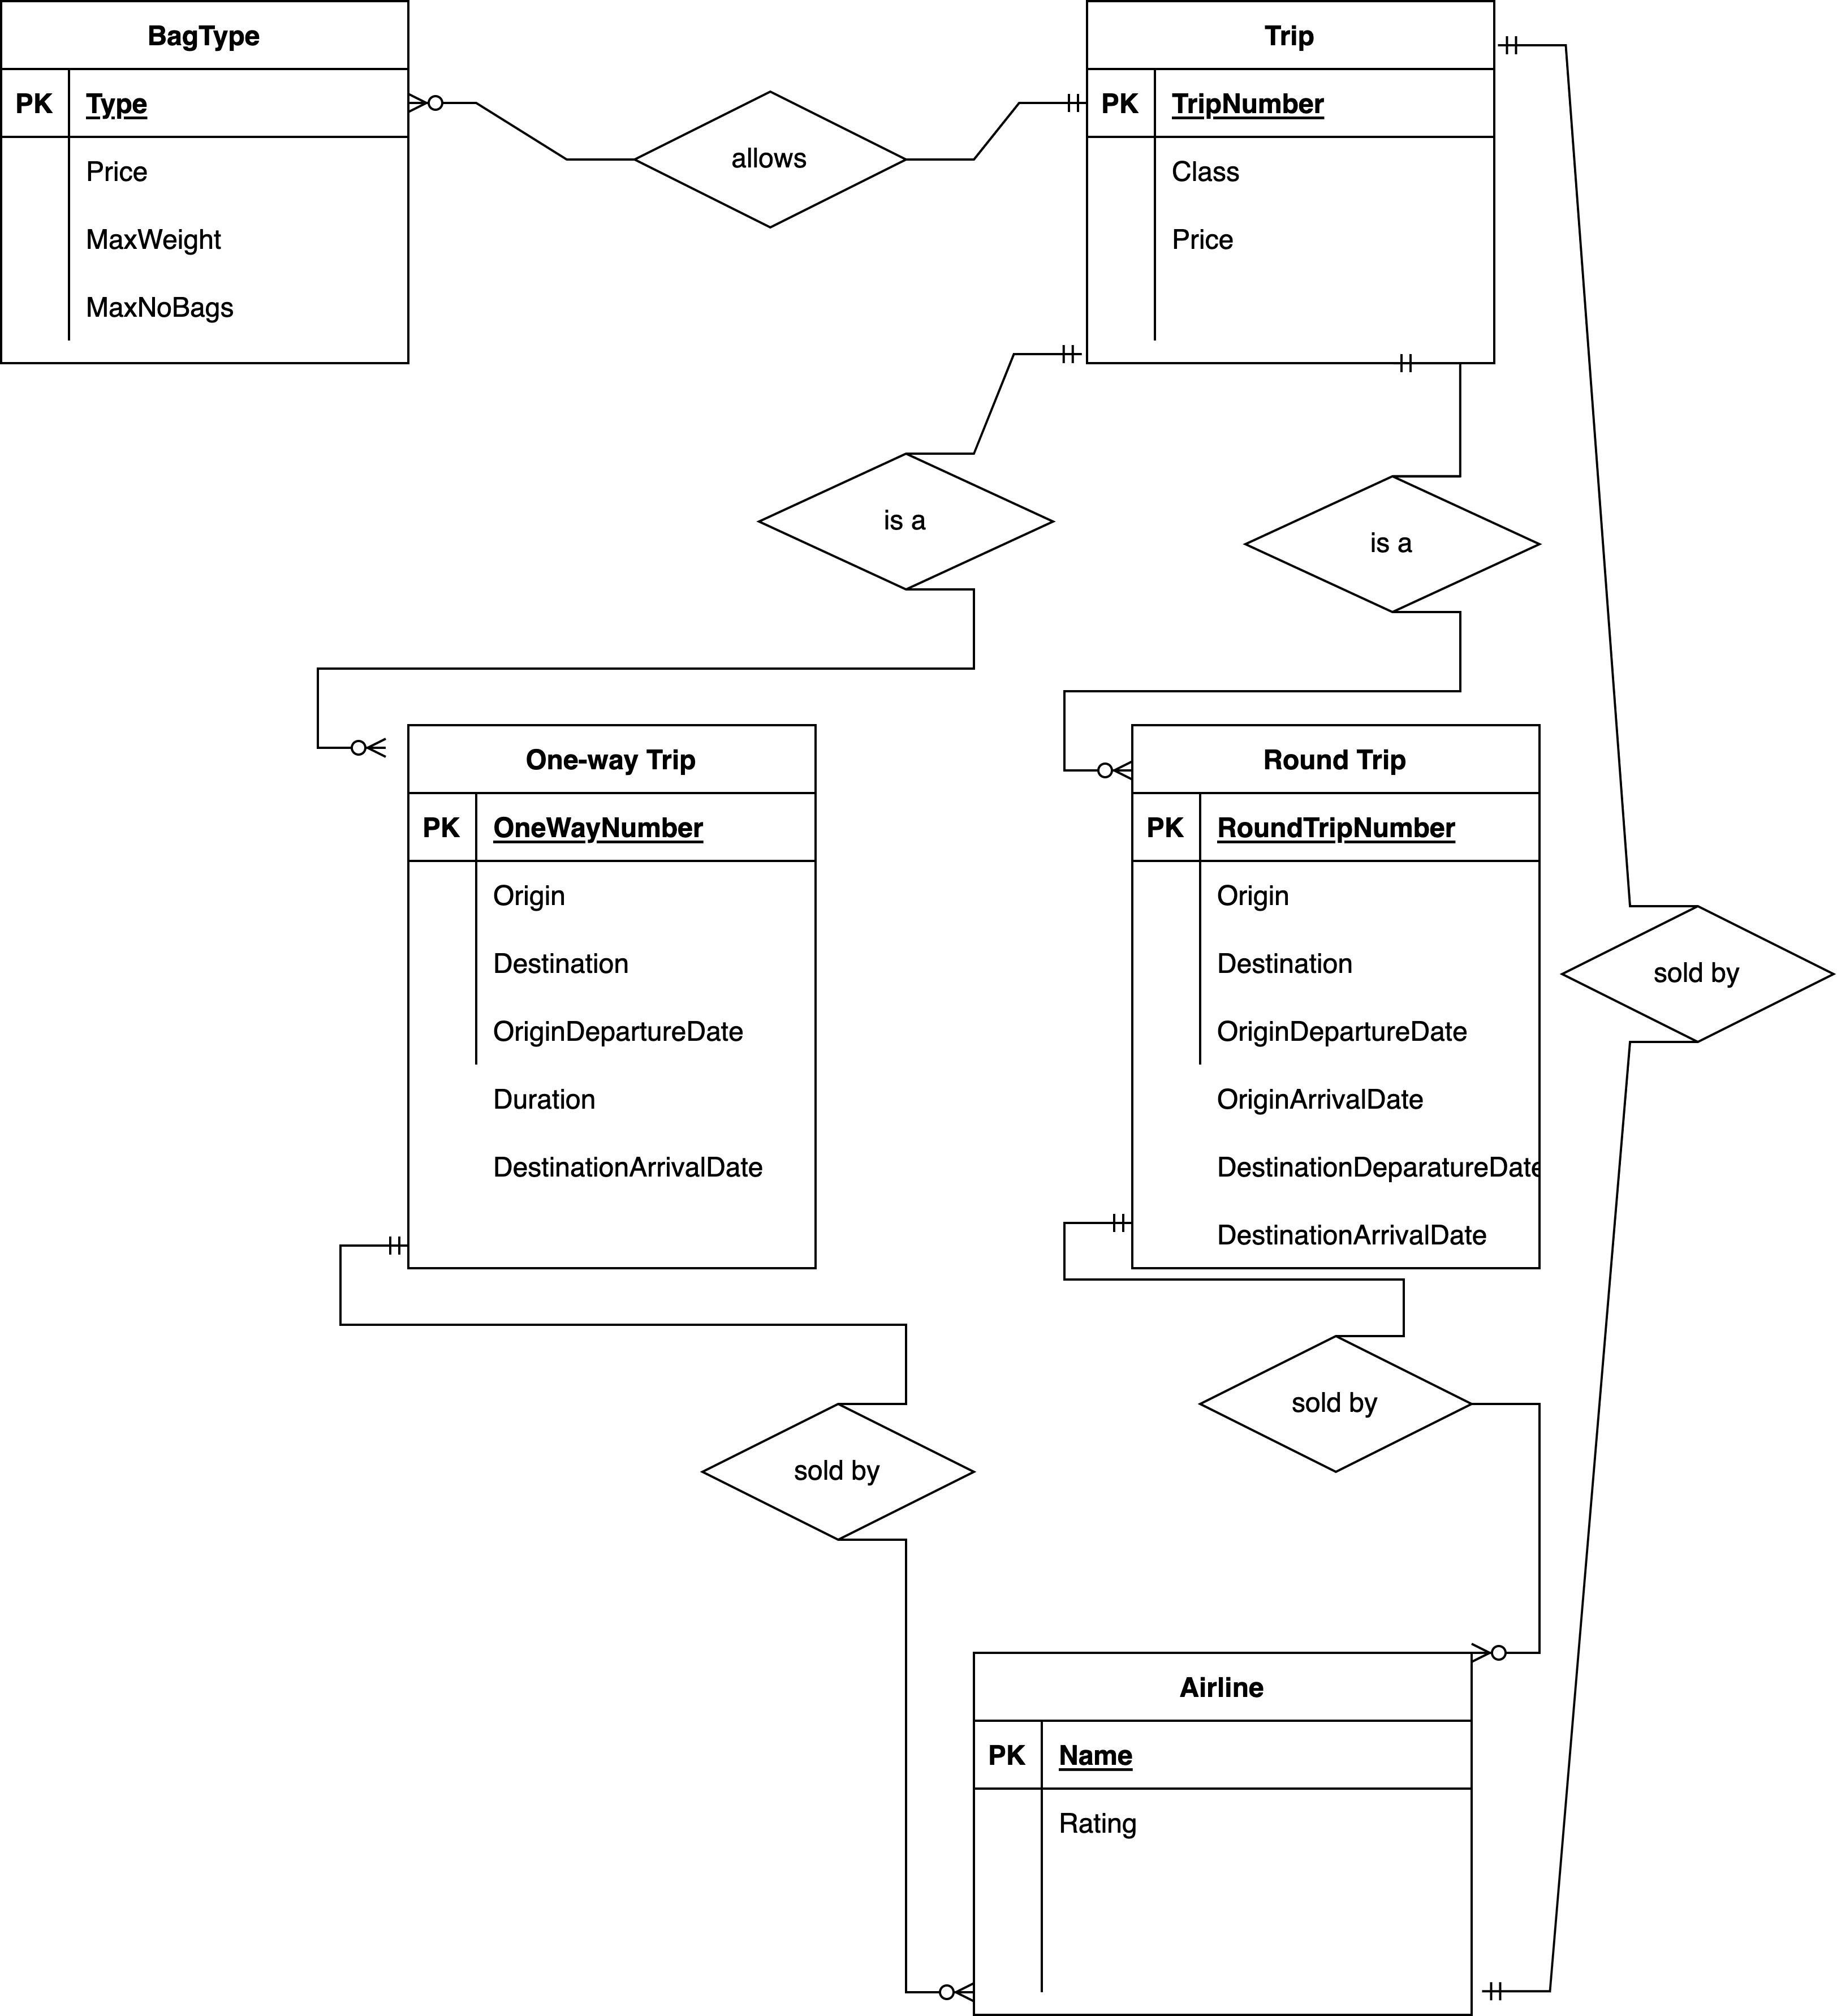entity: (402, 720, 824, 1277), (1129, 724, 1545, 1277), (969, 1649, 1477, 2016), (0, 0, 413, 372), (1082, 0, 1500, 367)
relationship: (753, 457, 1052, 595), (1563, 897, 1837, 1047), (634, 83, 904, 228), (1249, 479, 1538, 615), (1198, 1336, 1473, 1473), (702, 1407, 976, 1538)
